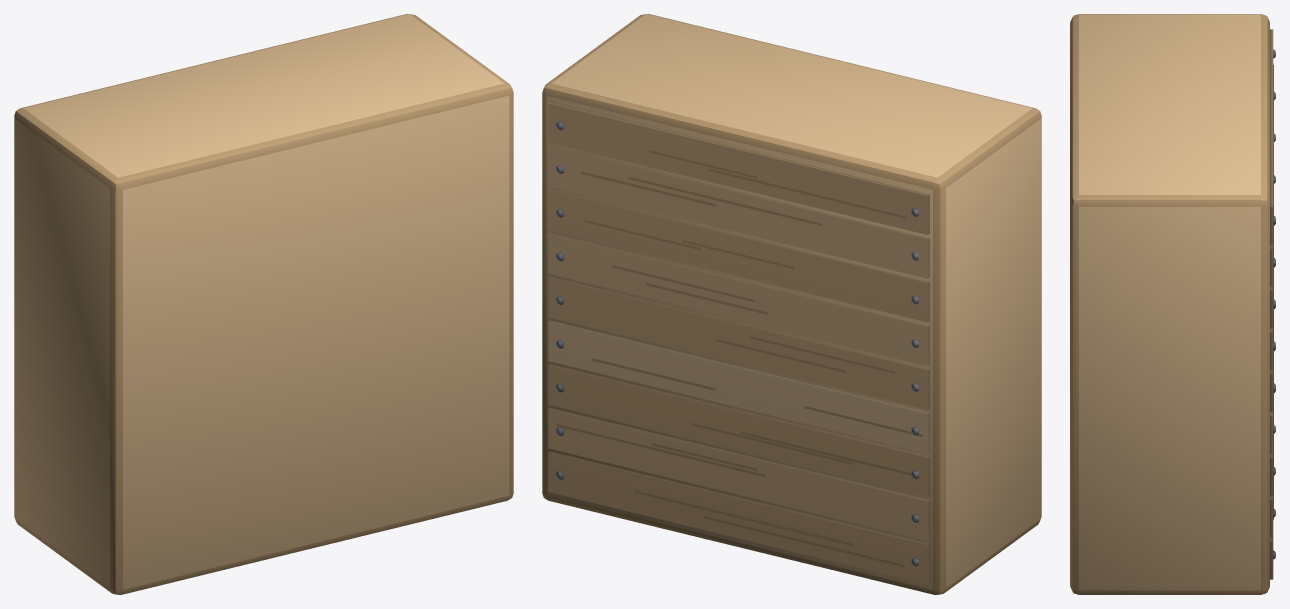
File: CubeLargeWood.fbx
3 views of the same model, side by side, from view 1: azimuth 30°, elevation 25°; view 2: azimuth 150°, elevation 25°; view 3: azimuth 270°, elevation 25° (orthographic). The views are drawn at different scales.
Visible parts, largest first — view 1: CubeLargeWood; view 2: CubeLargeWood; view 3: CubeLargeWood.
Part boxes in pixels (x1=…): CubeLargeWood: x1=14, y1=14, x2=513, y2=594; CubeLargeWood: x1=542, y1=14, x2=1041, y2=594; CubeLargeWood: x1=1070, y1=14, x2=1275, y2=594.
Bounding box in the file's own units: 4.9 × 4.85 × 2.26.
